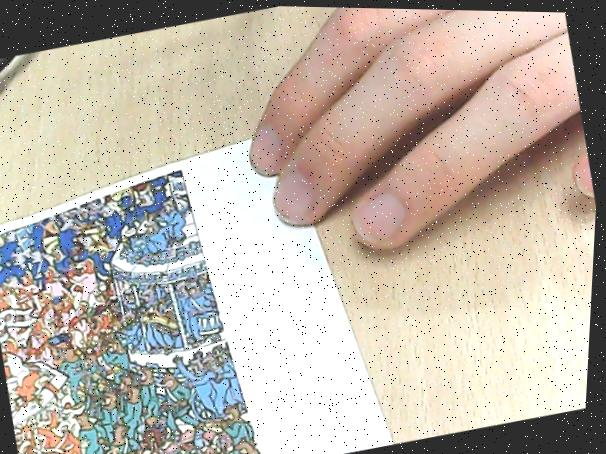waldo: (107, 297, 127, 321)
